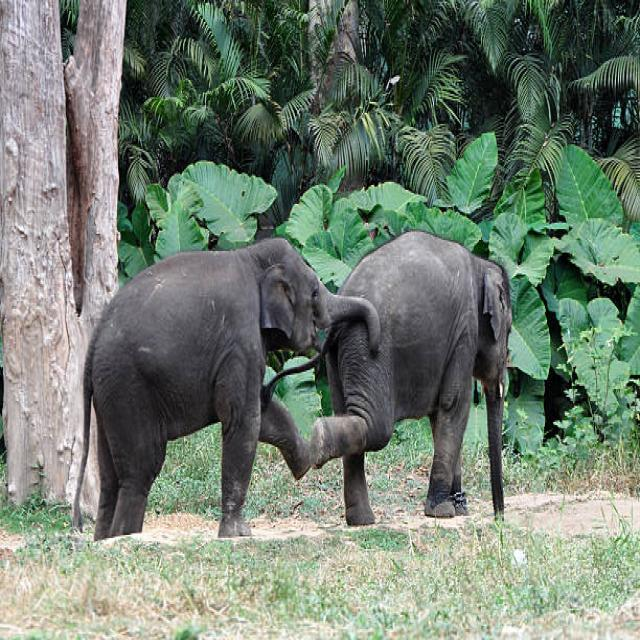Elephant: (76, 232, 328, 555), (336, 208, 523, 555)
